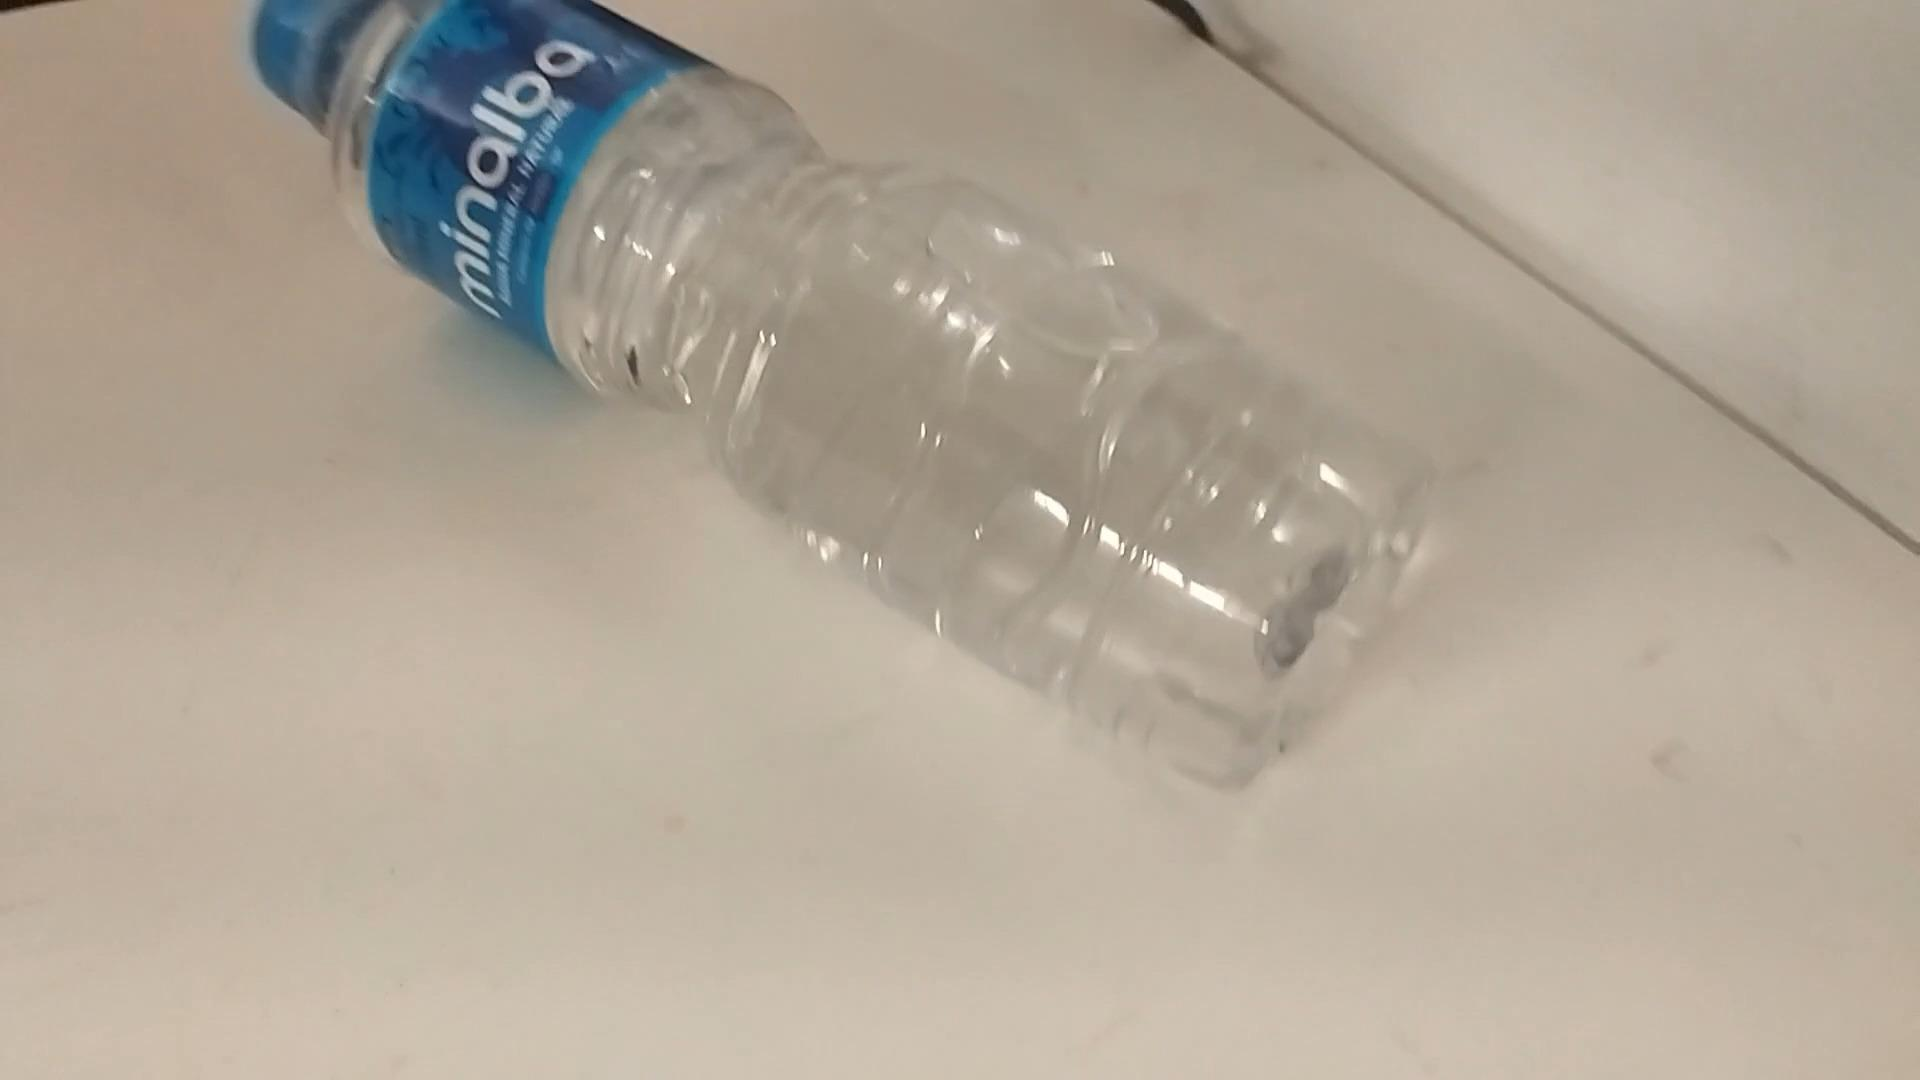agua: (255, 7, 1394, 793)
